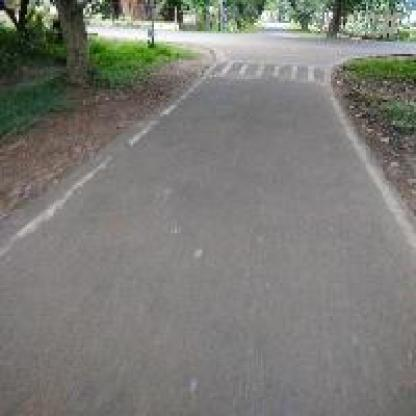Speed Bump: (204, 56, 328, 85)
